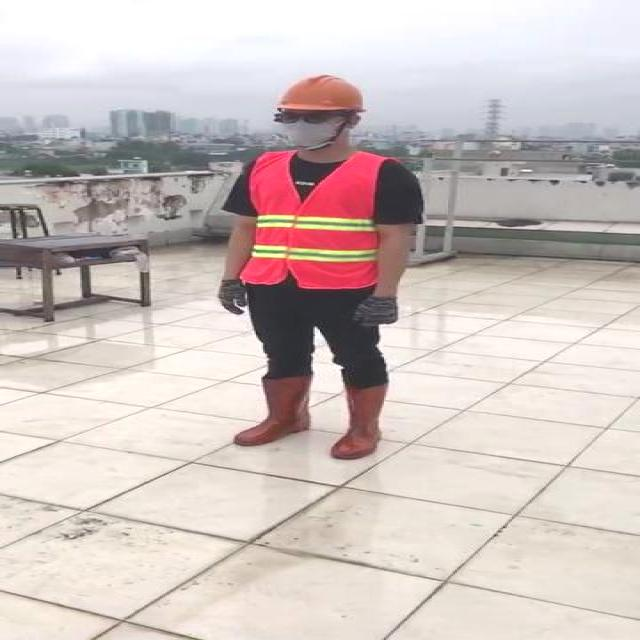boots: (235, 373, 316, 449), (328, 375, 397, 461)
face_mask: (274, 107, 340, 150)
glasses: (273, 107, 333, 127)
hand_glove: (350, 295, 407, 327), (213, 280, 240, 321)
head_helmet: (278, 71, 372, 114)
person: (210, 69, 428, 462)
vest: (238, 153, 396, 288)
